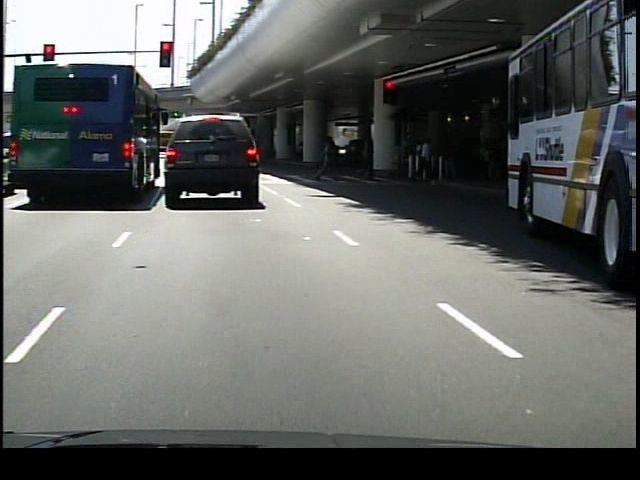person: (316, 132, 343, 183), (357, 130, 382, 185), (414, 135, 435, 188)
